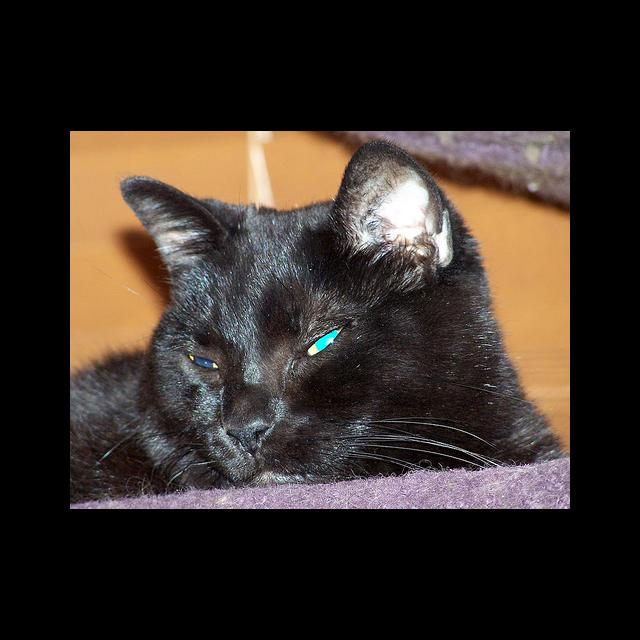animals: (126, 141, 449, 448)
